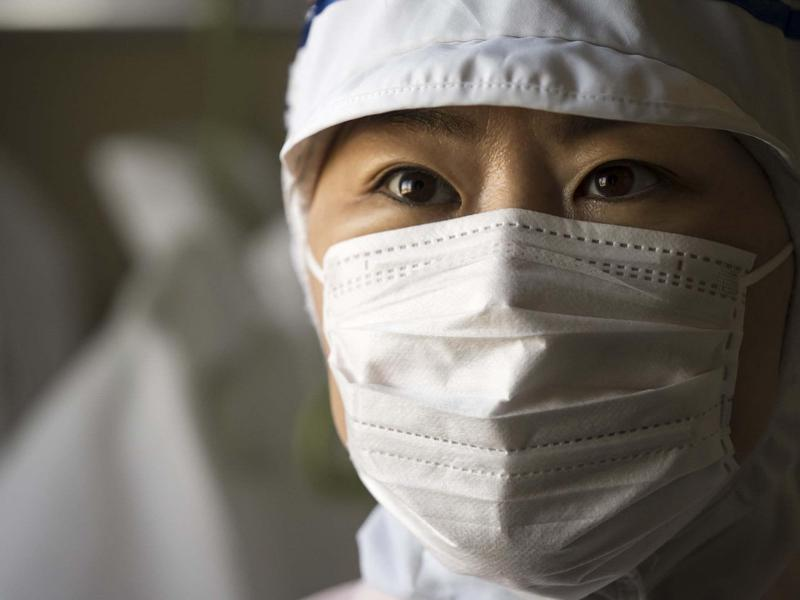with_mask: (305, 111, 800, 600)
